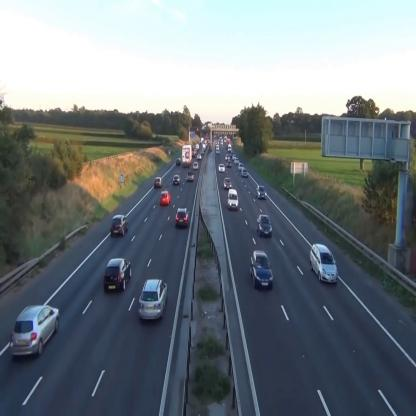car: (10, 306, 60, 359), (138, 278, 168, 322), (310, 245, 338, 283), (104, 258, 132, 292), (251, 250, 273, 286), (110, 214, 128, 236), (257, 215, 272, 237), (176, 207, 190, 226), (160, 190, 171, 206), (257, 184, 266, 200), (154, 177, 164, 188), (186, 172, 194, 182), (173, 174, 180, 185), (224, 177, 231, 188), (218, 164, 225, 172), (226, 159, 232, 167), (234, 156, 240, 164), (238, 163, 244, 170), (242, 169, 248, 176), (194, 162, 198, 170), (197, 154, 202, 160), (176, 158, 180, 164)
lorry: (182, 144, 192, 166), (228, 189, 238, 209)
